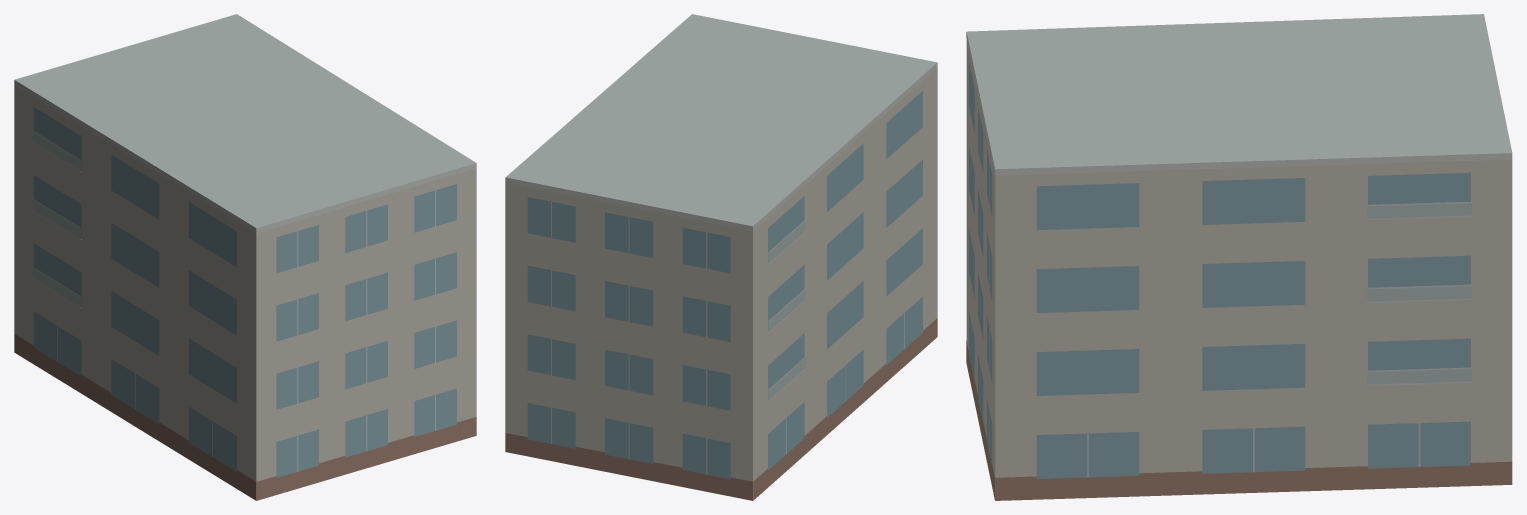
File: survey-upis-32555886.glb
3 views of the same model, side by side, from view 1: azimuth 30°, elevation 25°; view 2: azimuth 150°, elevation 25°; view 3: azimuth 270°, elevation 25° (orthographic). The views are drawn at different scales.
Visible parts, largest first — view 1: survey-upis-32555886.tmp; view 2: survey-upis-32555886.tmp; view 3: survey-upis-32555886.tmp.
Boxes of the visible parts, x1,y1,x2,y2 form: survey-upis-32555886.tmp: (14, 14, 476, 500); survey-upis-32555886.tmp: (505, 14, 937, 500); survey-upis-32555886.tmp: (966, 14, 1512, 500).
Size of the model in its own units: 12.85 by 12.8 by 19.1.
